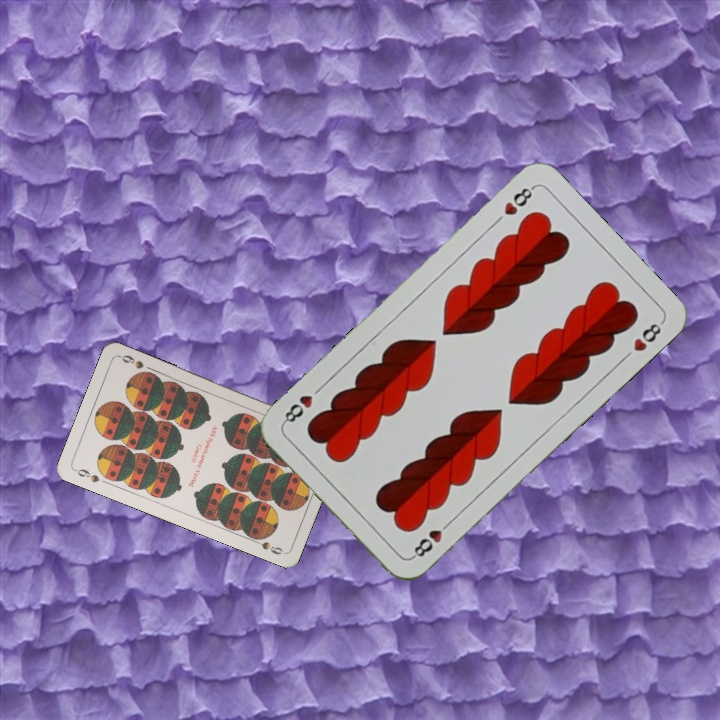H8: (407, 516, 455, 561), (500, 181, 537, 218)
S9: (70, 465, 102, 485)
